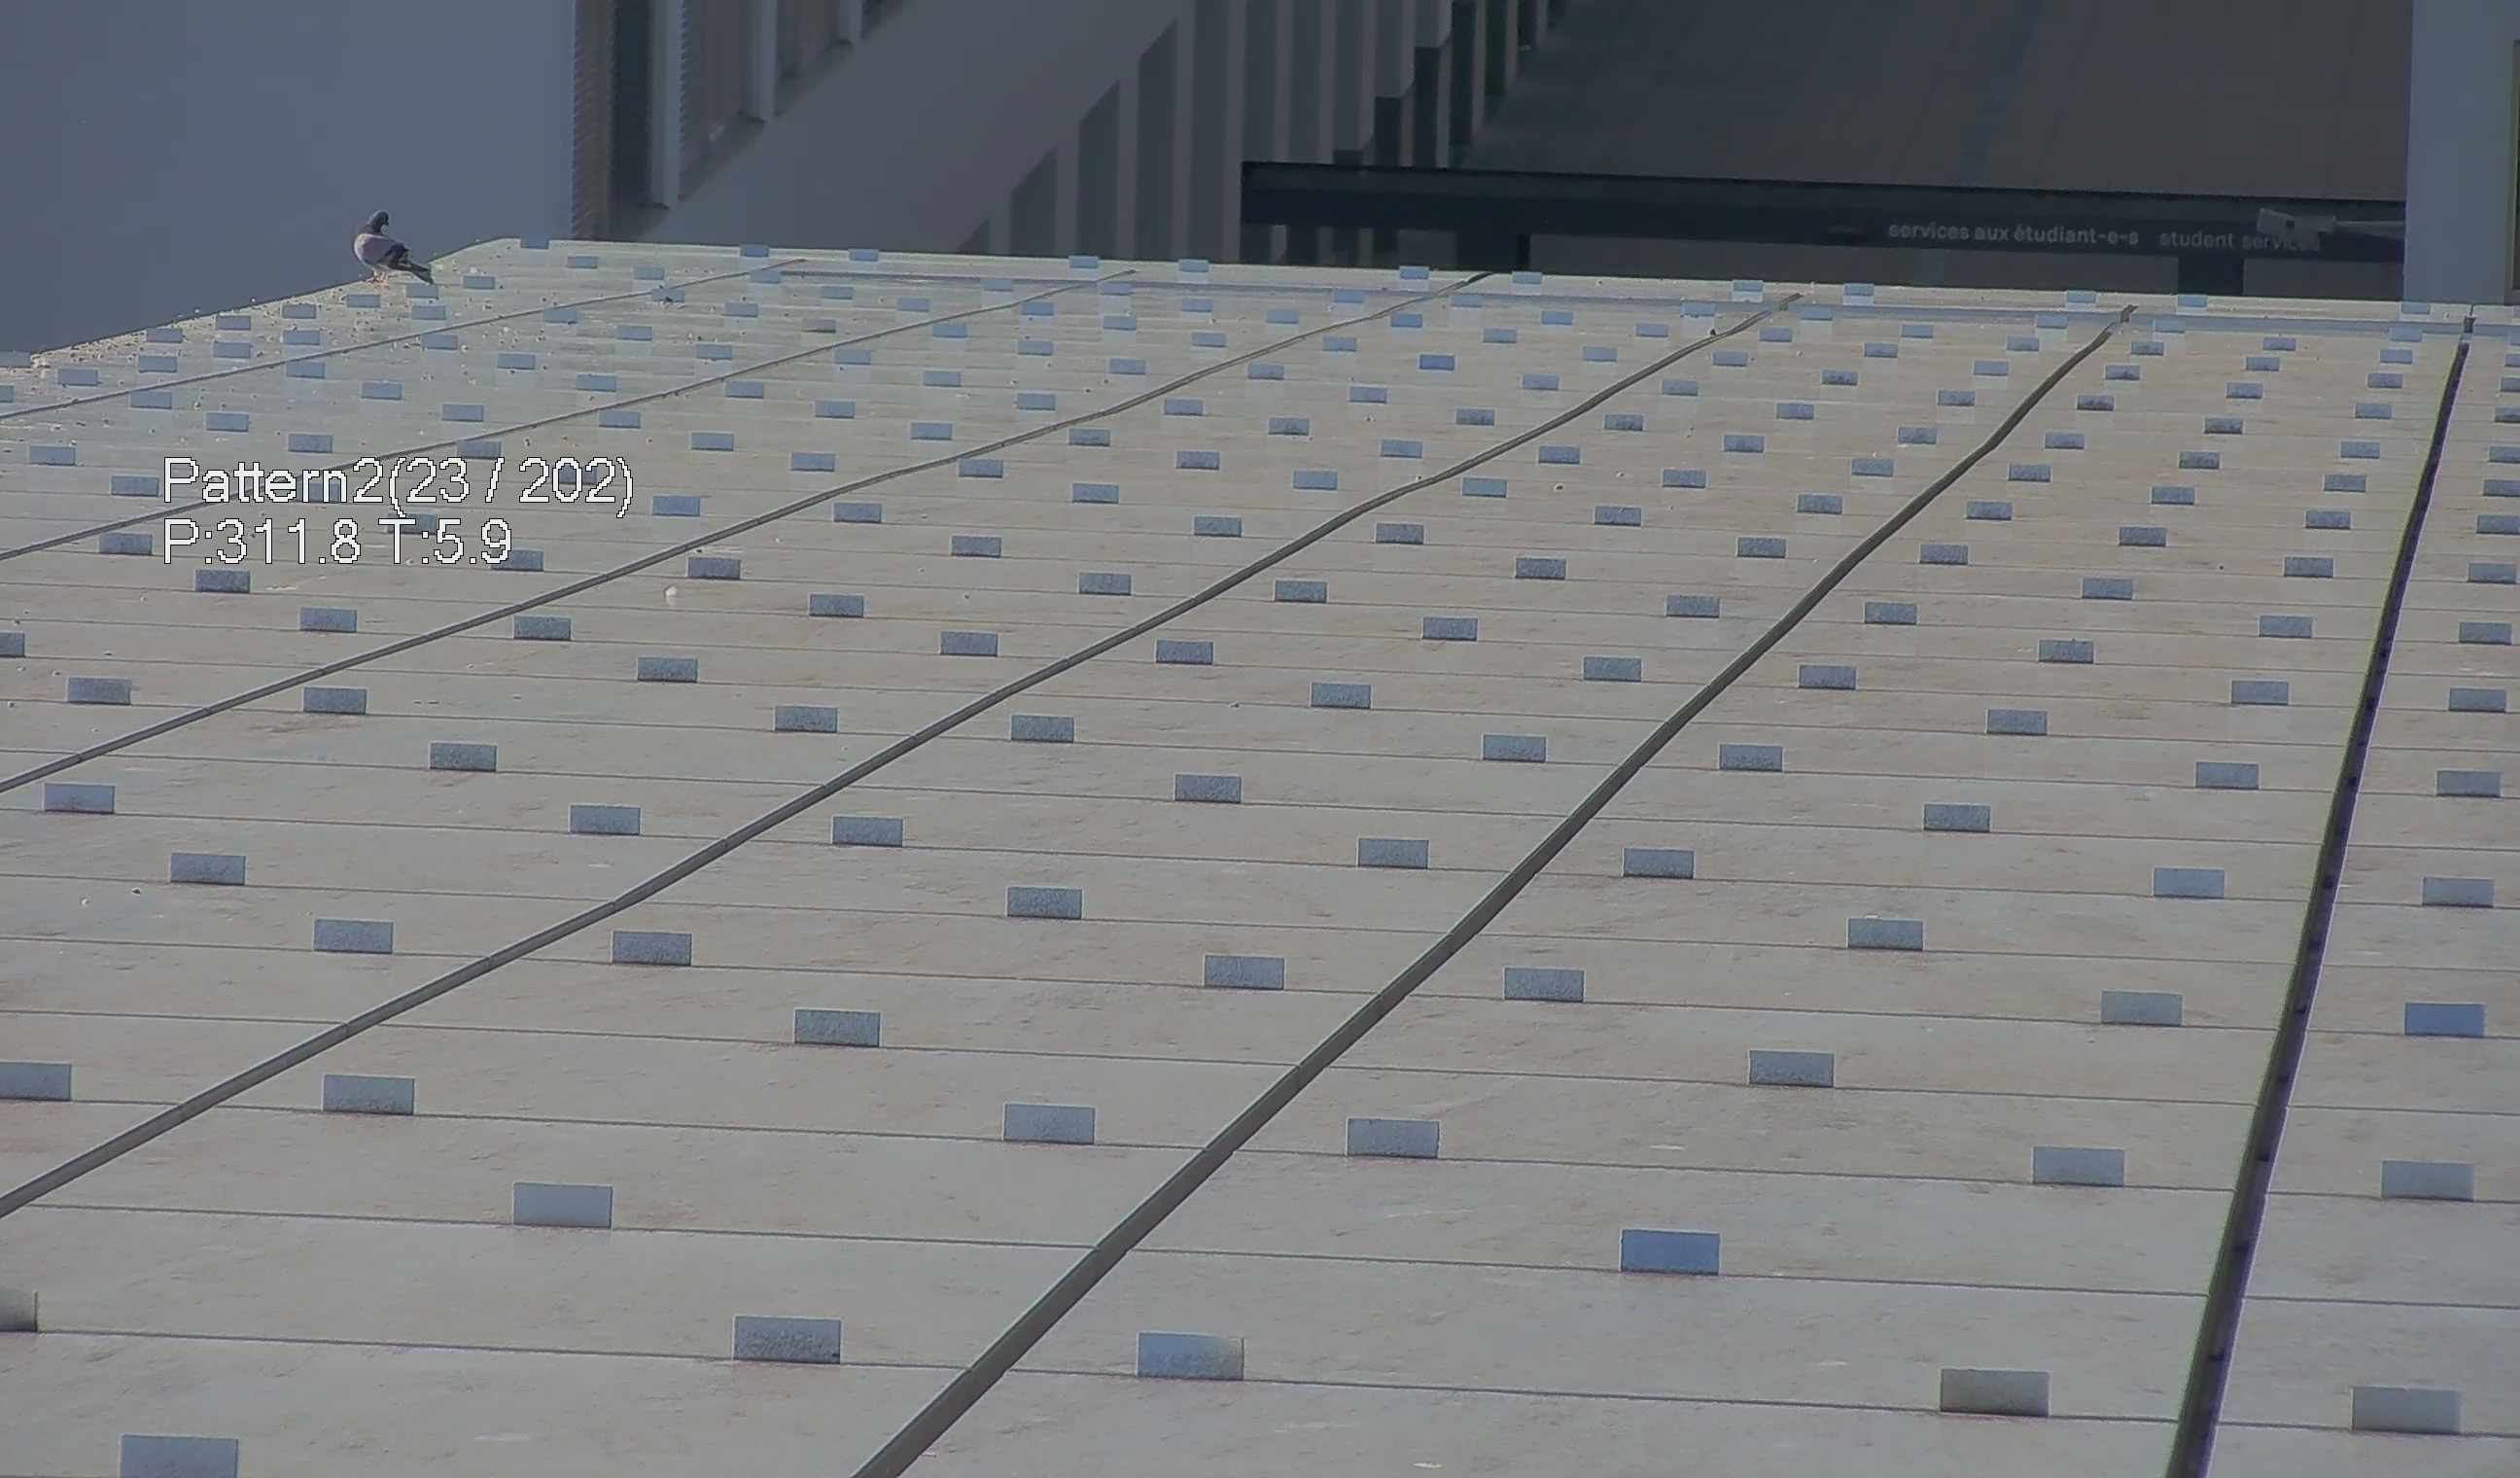Pigeon: (339, 192, 438, 292)
